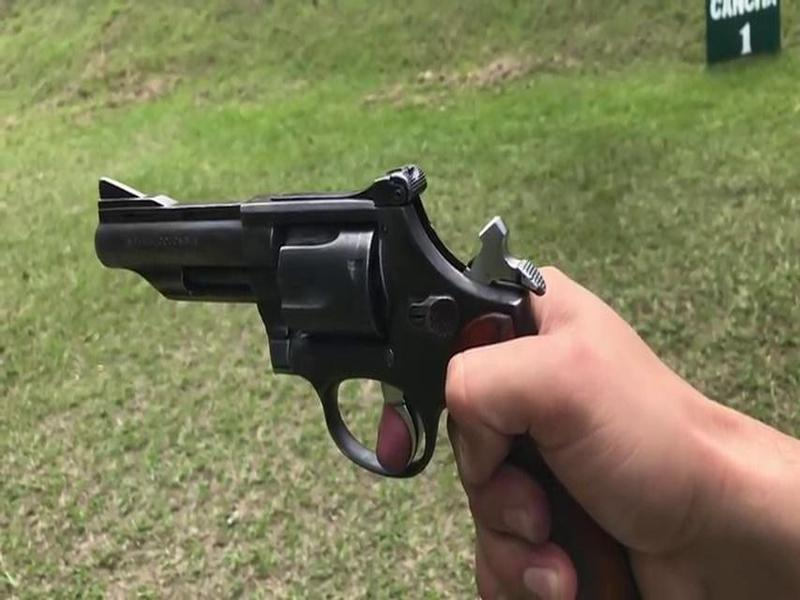Revolver: (85, 143, 592, 524)
